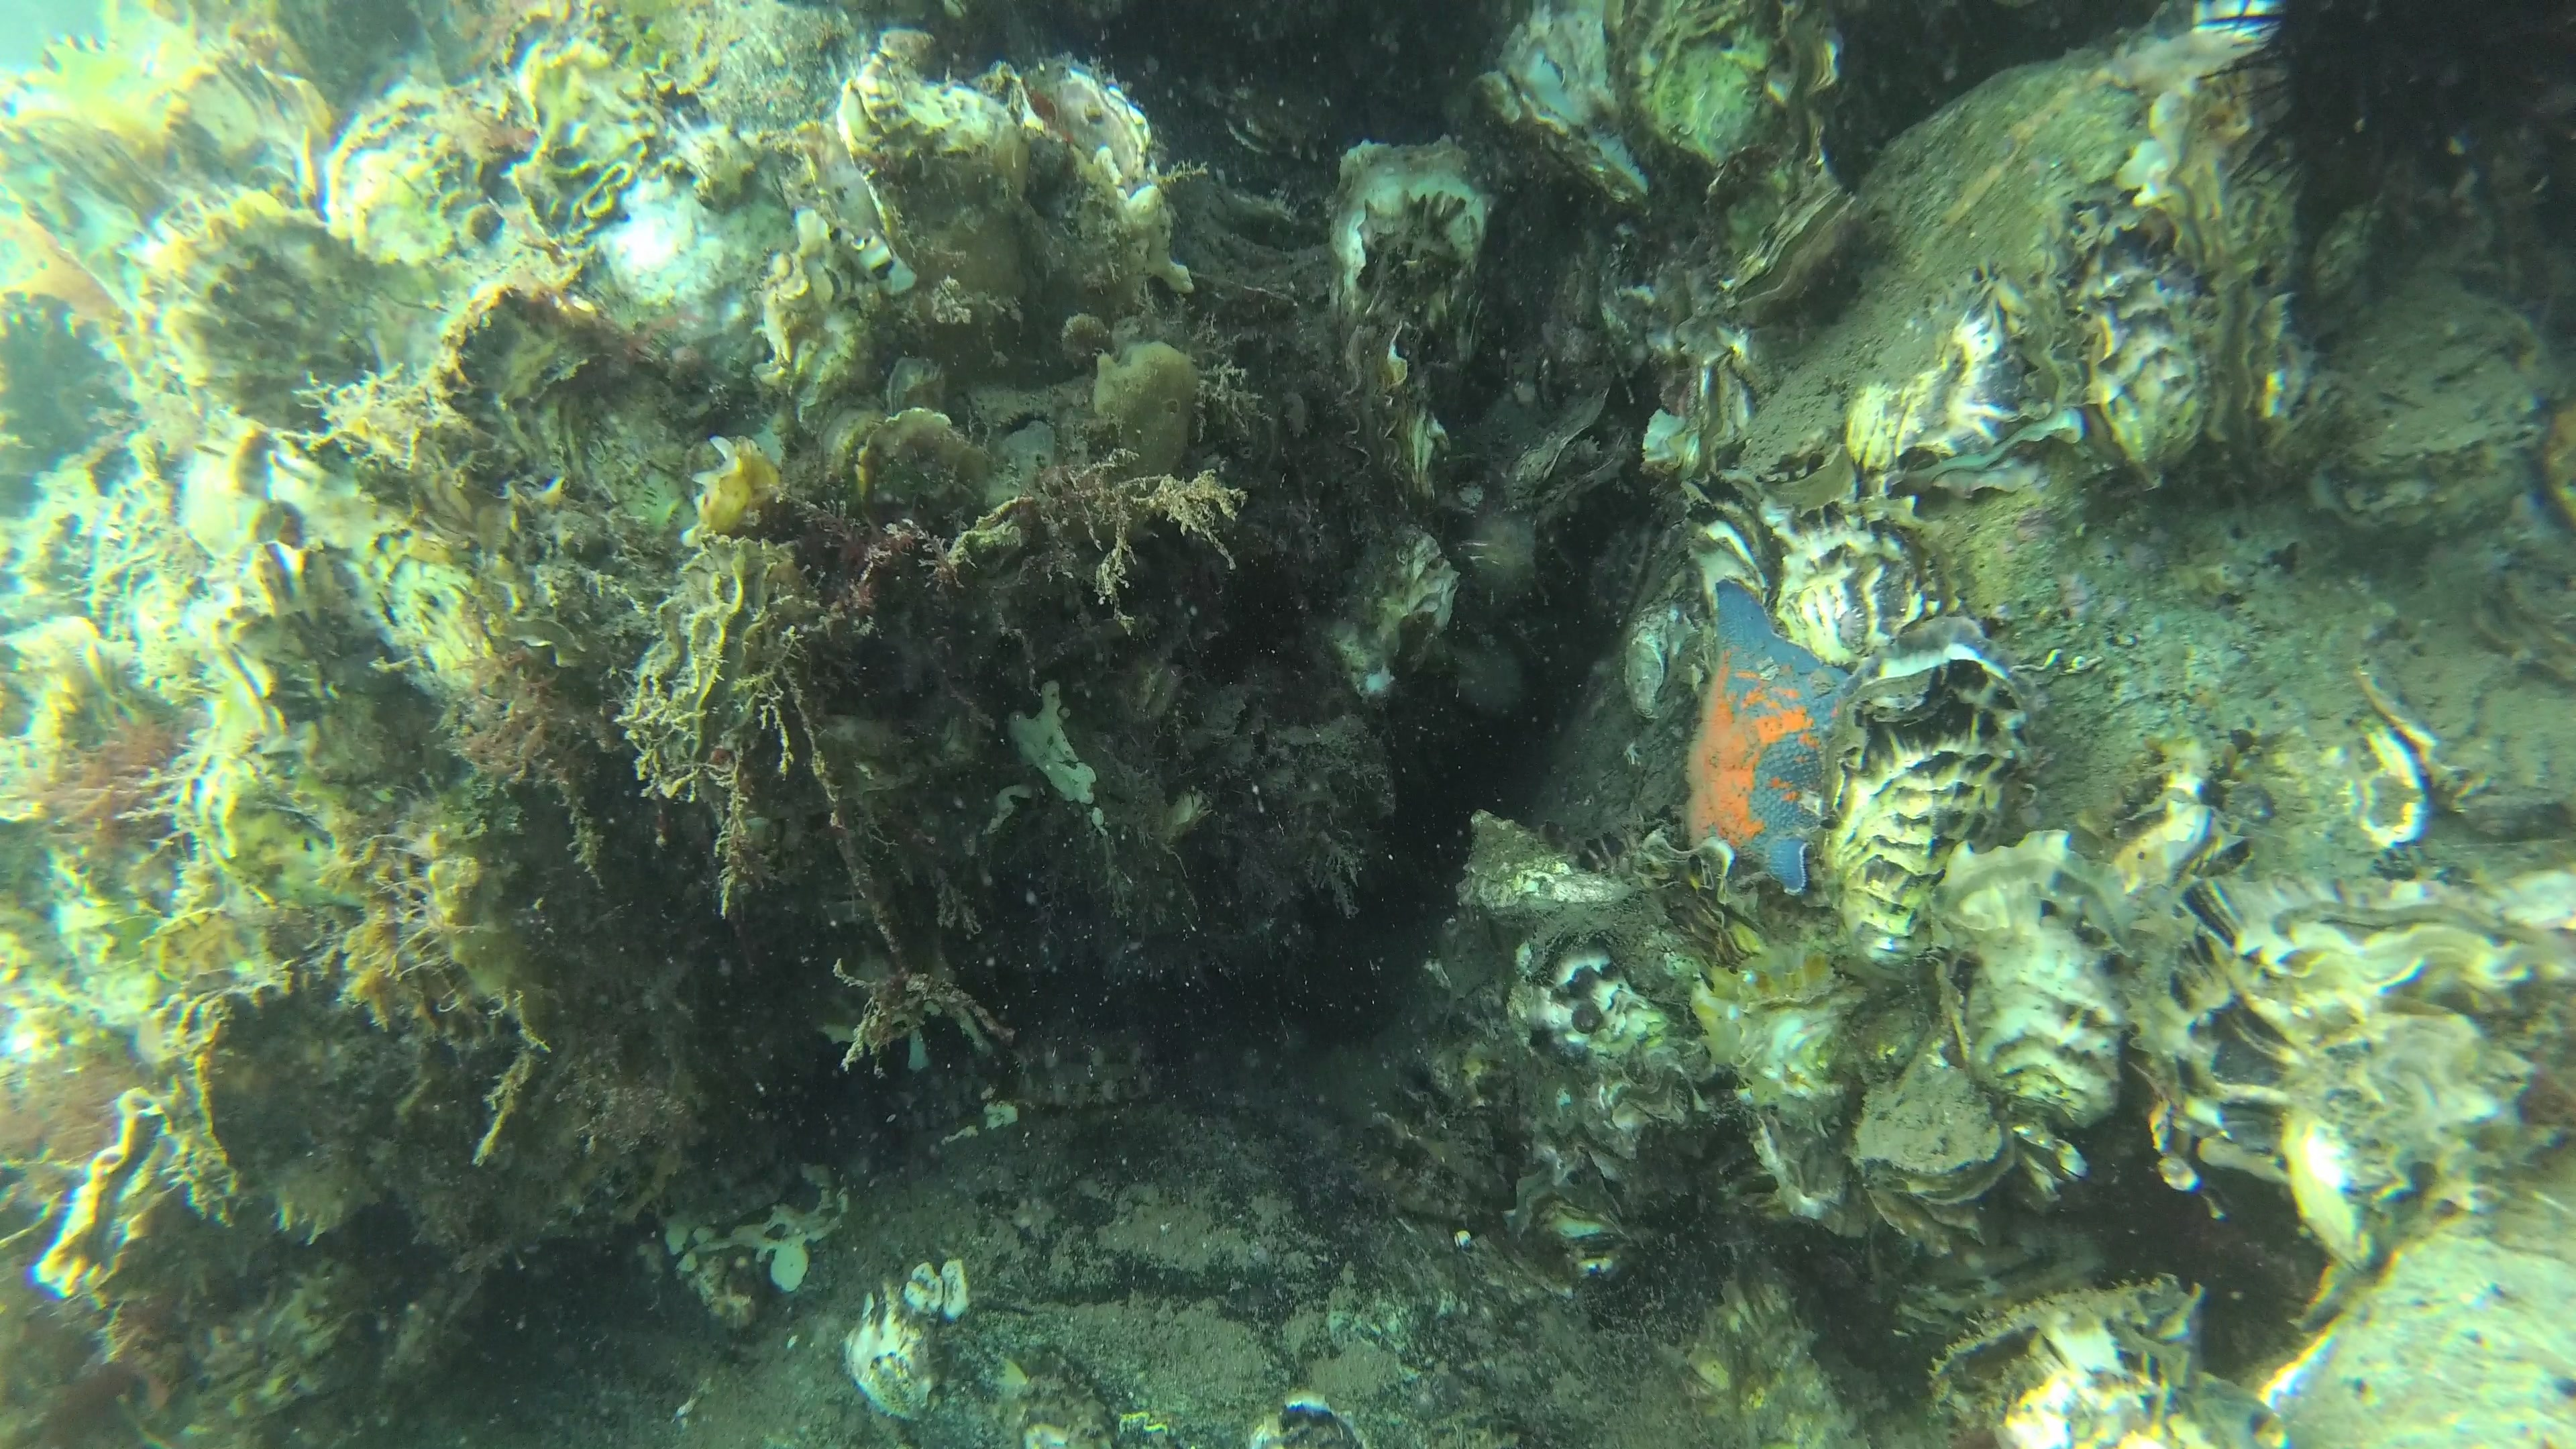starfish: (1684, 577, 1863, 895)
